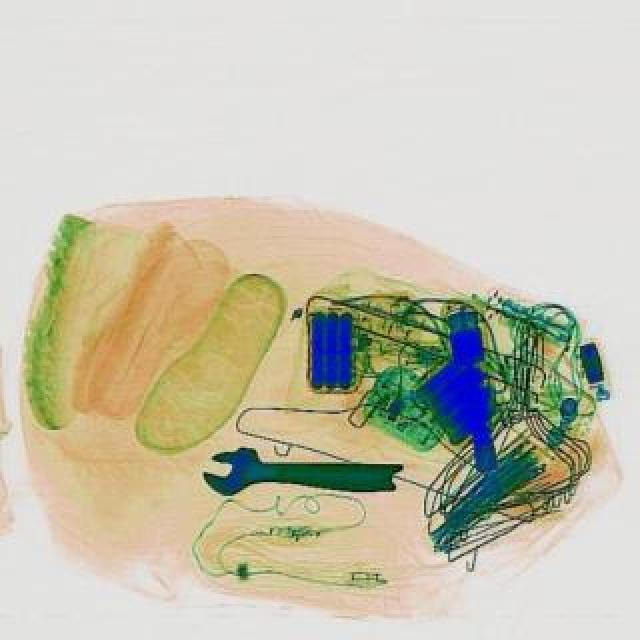scissors: (200, 444, 402, 498)
